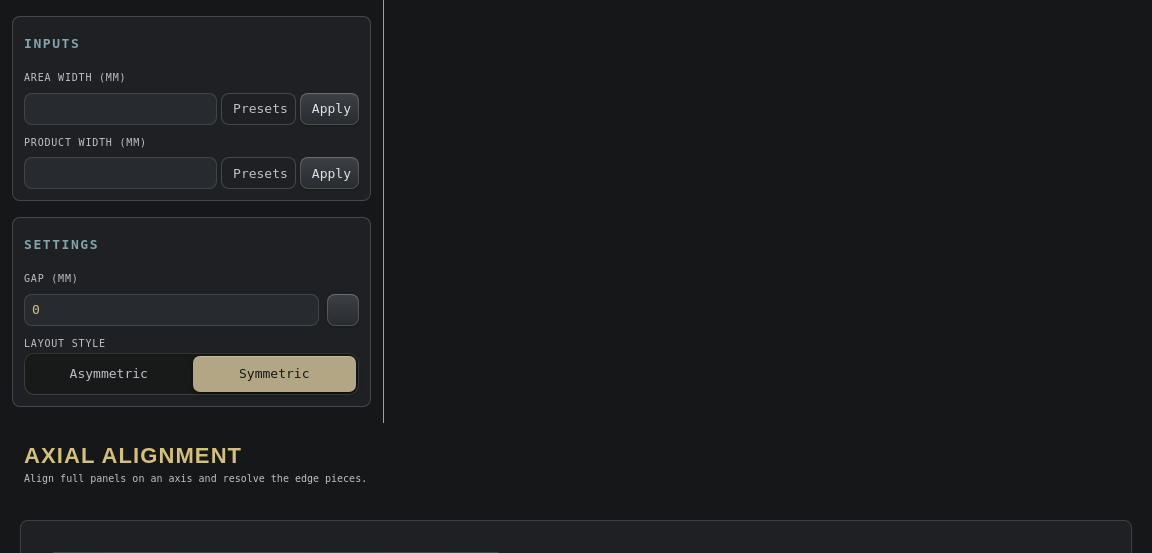
Test: material presets on the symmetric layout page › can be walked with the keyboard, because the field keeps focus
Click the button titled "Presets" below "Product width (mm)" at (258, 173), box [221,157,296,189]
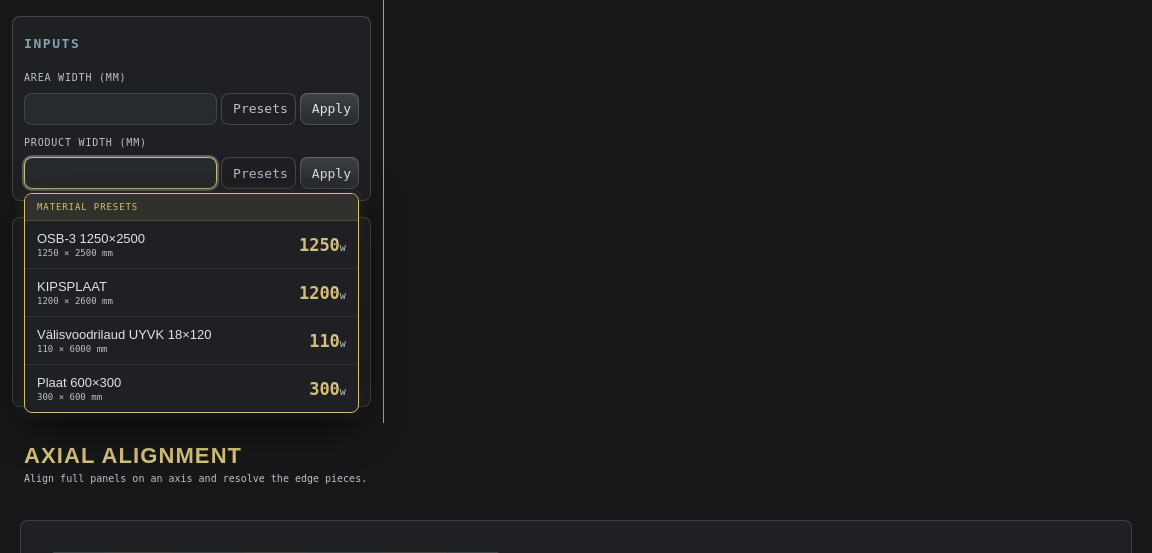
Press Arrowdown
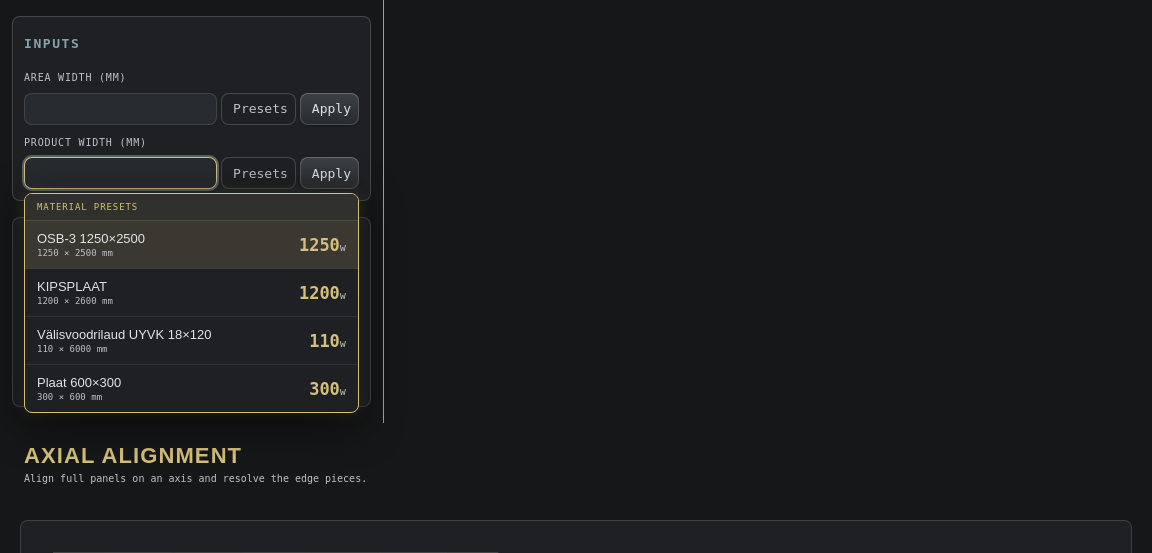
Press Enter
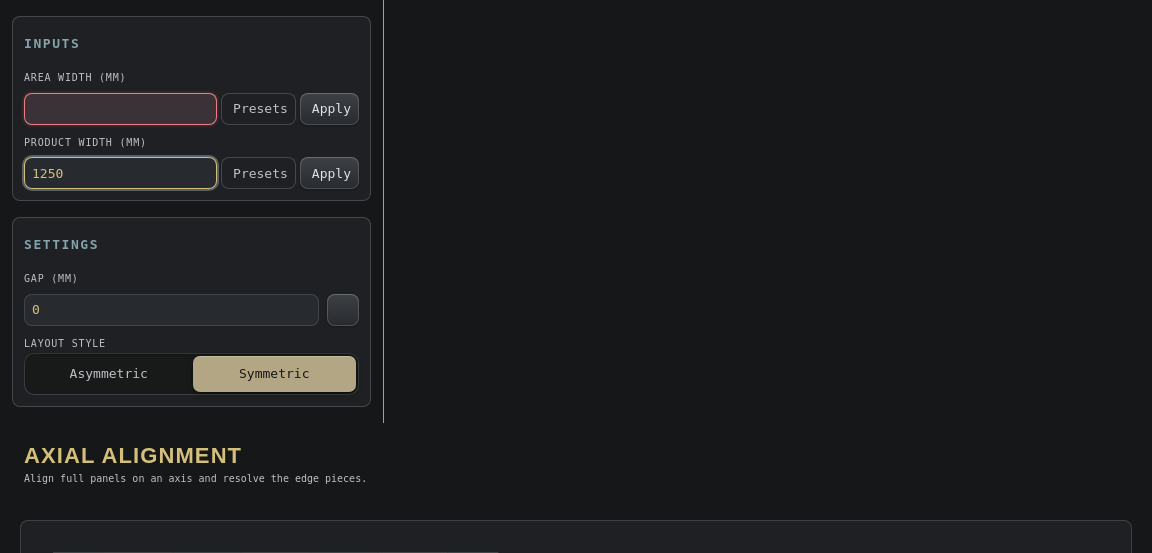
Expected: the dropdown with id "input-sym-panel-width" holds "1250", [24,157,217,189]
Expected: the text "Material Presets" is gone
